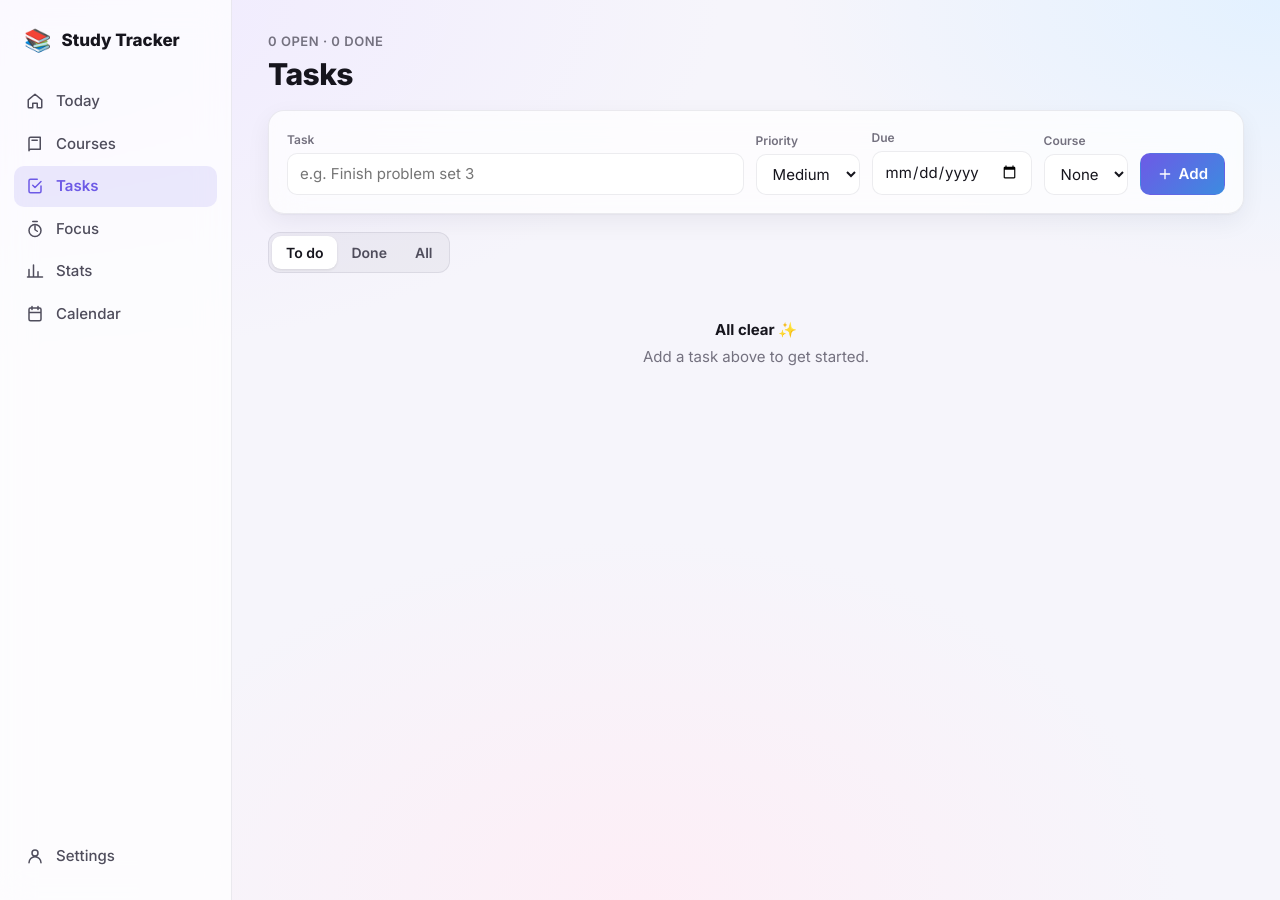
Test: App › adds and completes a task
The image size is (1280, 900).
Type "Revise notes" into the field with placeholder "e.g. Finish problem set 3" at (515, 174), box 287,152 -> 744,195
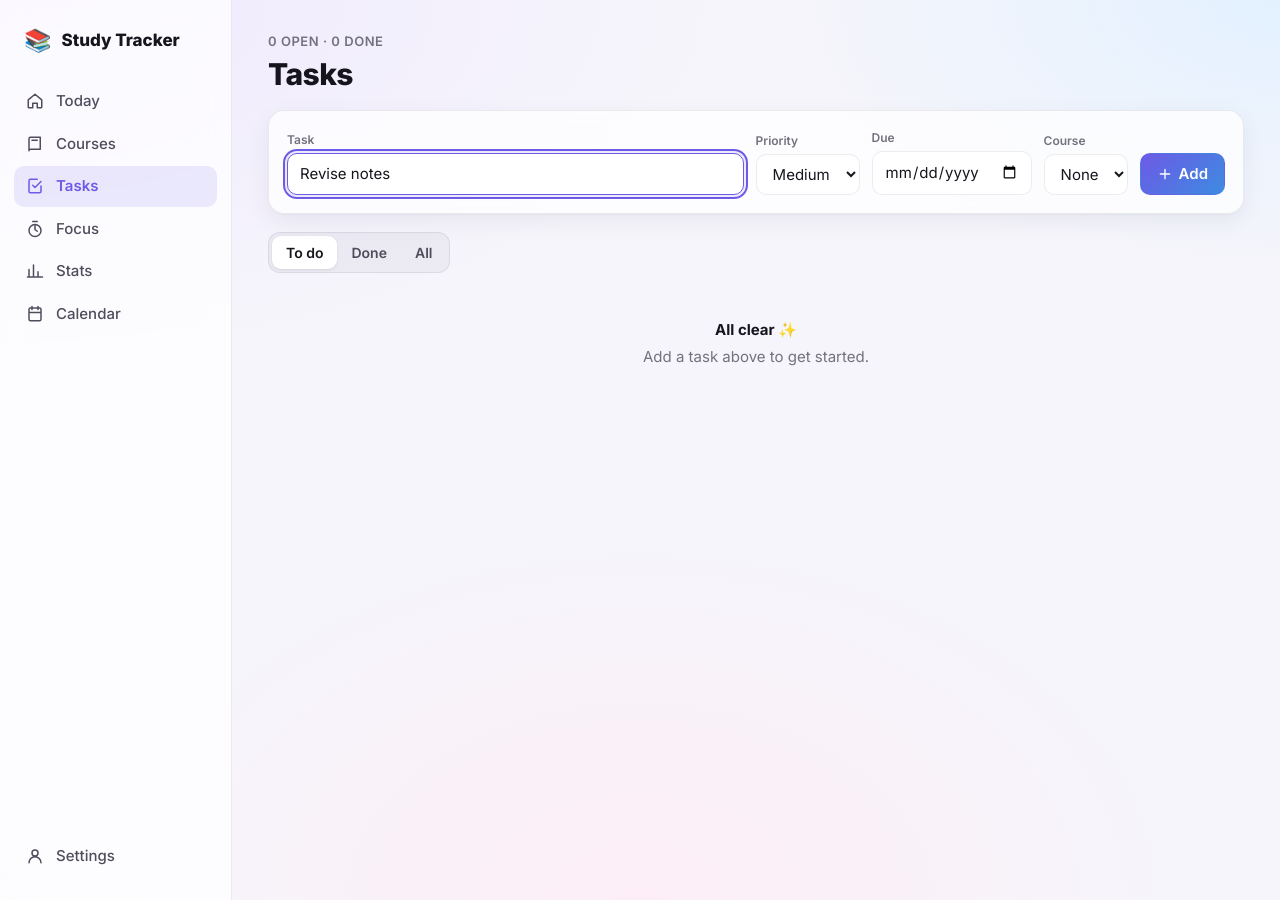
Click the button "Add" at (1182, 174), box 1140,152 -> 1225,195
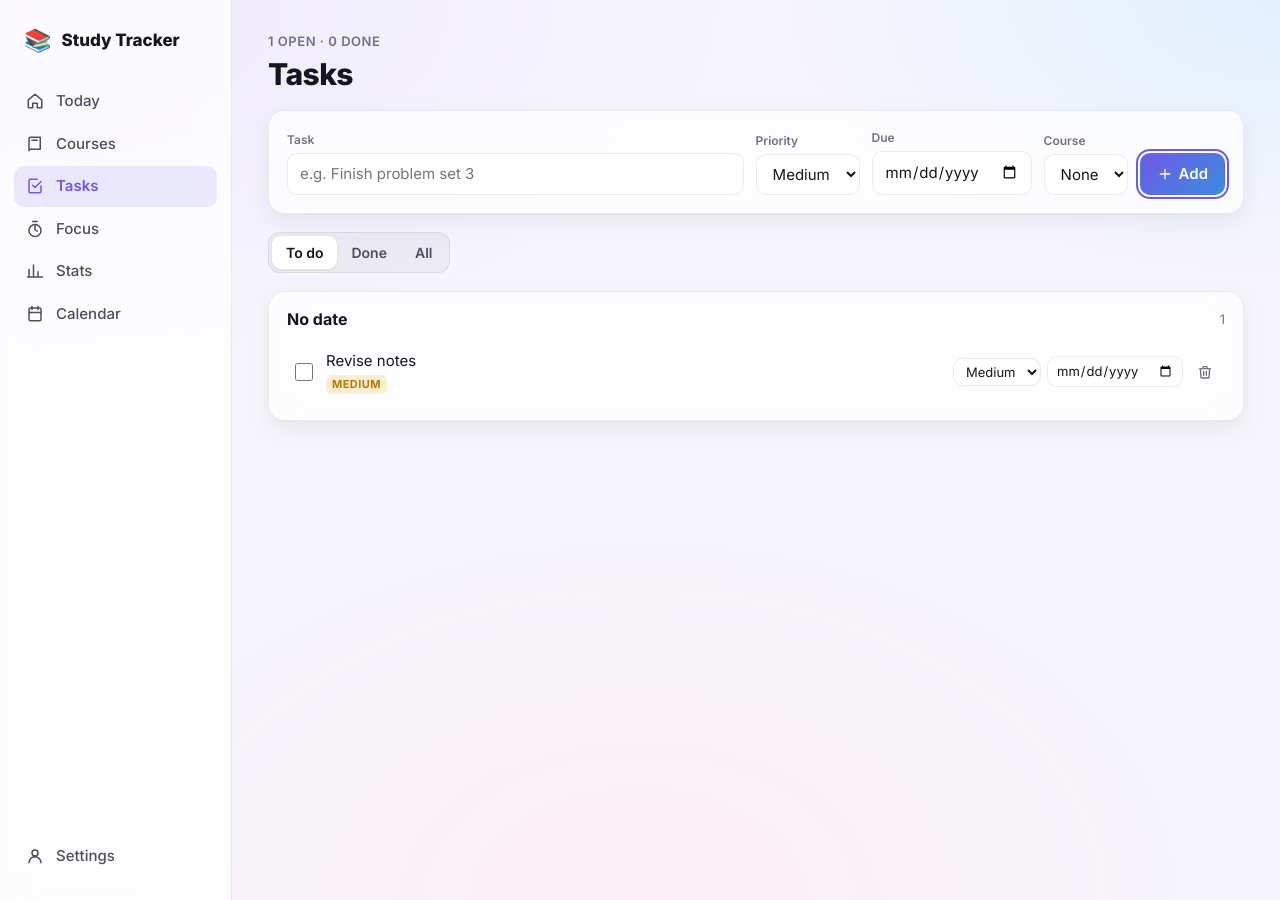
Check: the button "Revise notes" is shown, box 322,348 -> 947,374
Click the checkbox named "Mark Revise notes done" at (304, 372), box 295,362 -> 313,380
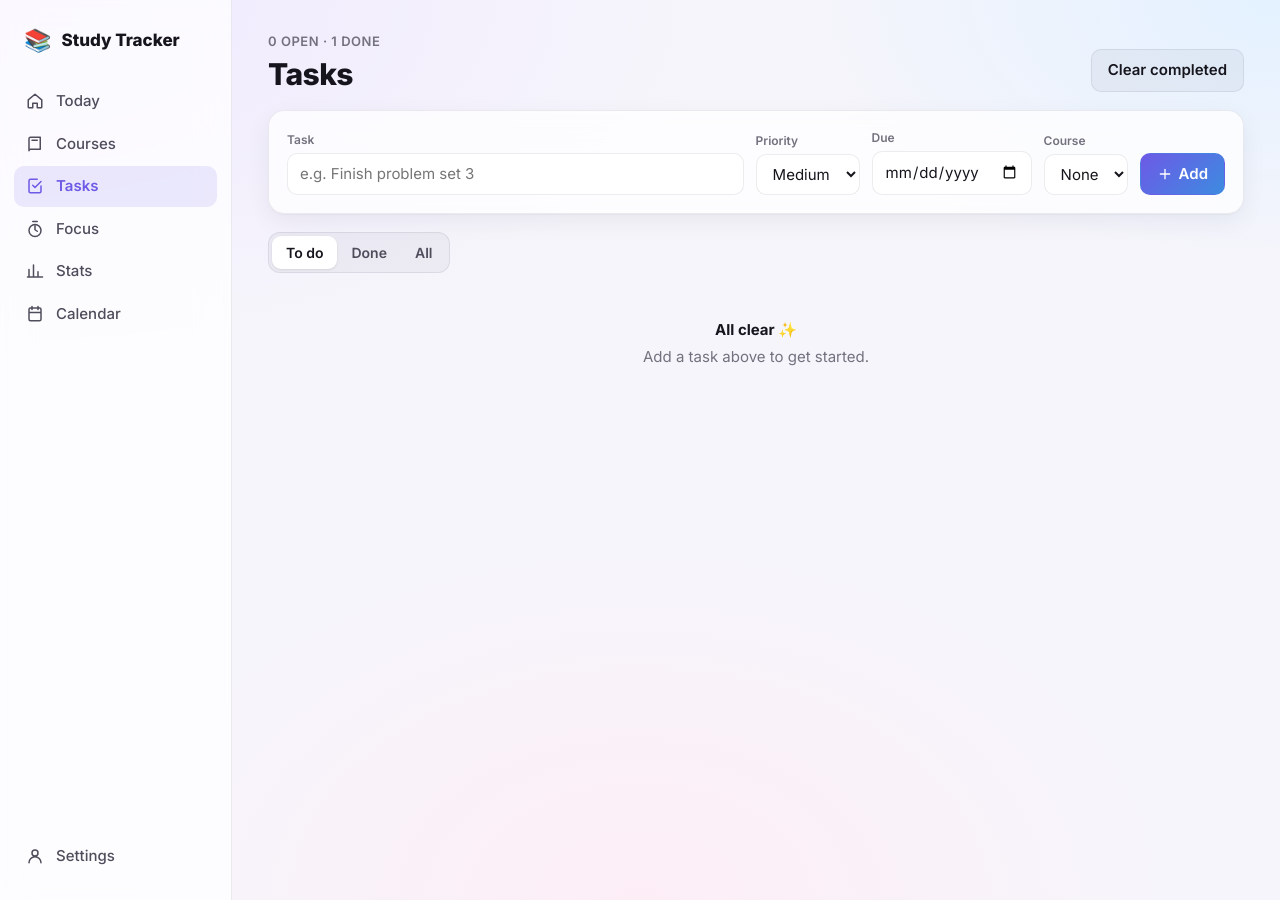
Check: the text "All clear ✨" is shown, box 715,320 -> 797,339
